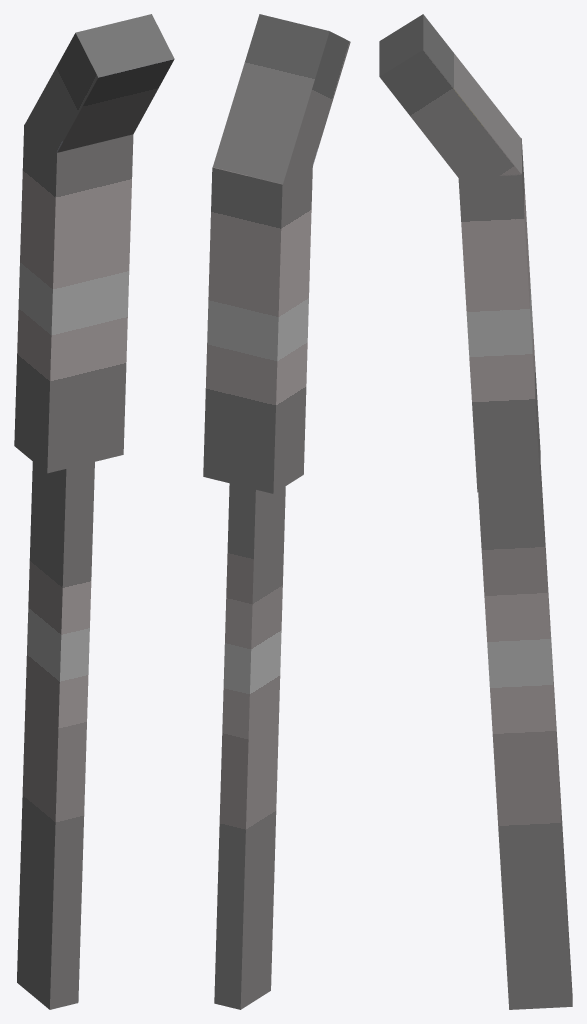
The model's file is combination_lever.obj.
3 views of the same model, side by side, from view 1: azimuth 30°, elevation 25°; view 2: azimuth 150°, elevation 25°; view 3: azimuth 270°, elevation 25° (orthographic). The views are drawn at different scales.
Visible parts, largest first — view 1: cuboid; view 2: cuboid; view 3: cuboid.
Part boxes in pixels (x1,y1,x2,y2): cuboid: (14,14,174,1009); cuboid: (203,14,350,1009); cuboid: (379,14,572,1009).
Size of the model in its own units: 0.1 by 1.27 by 0.2283.
